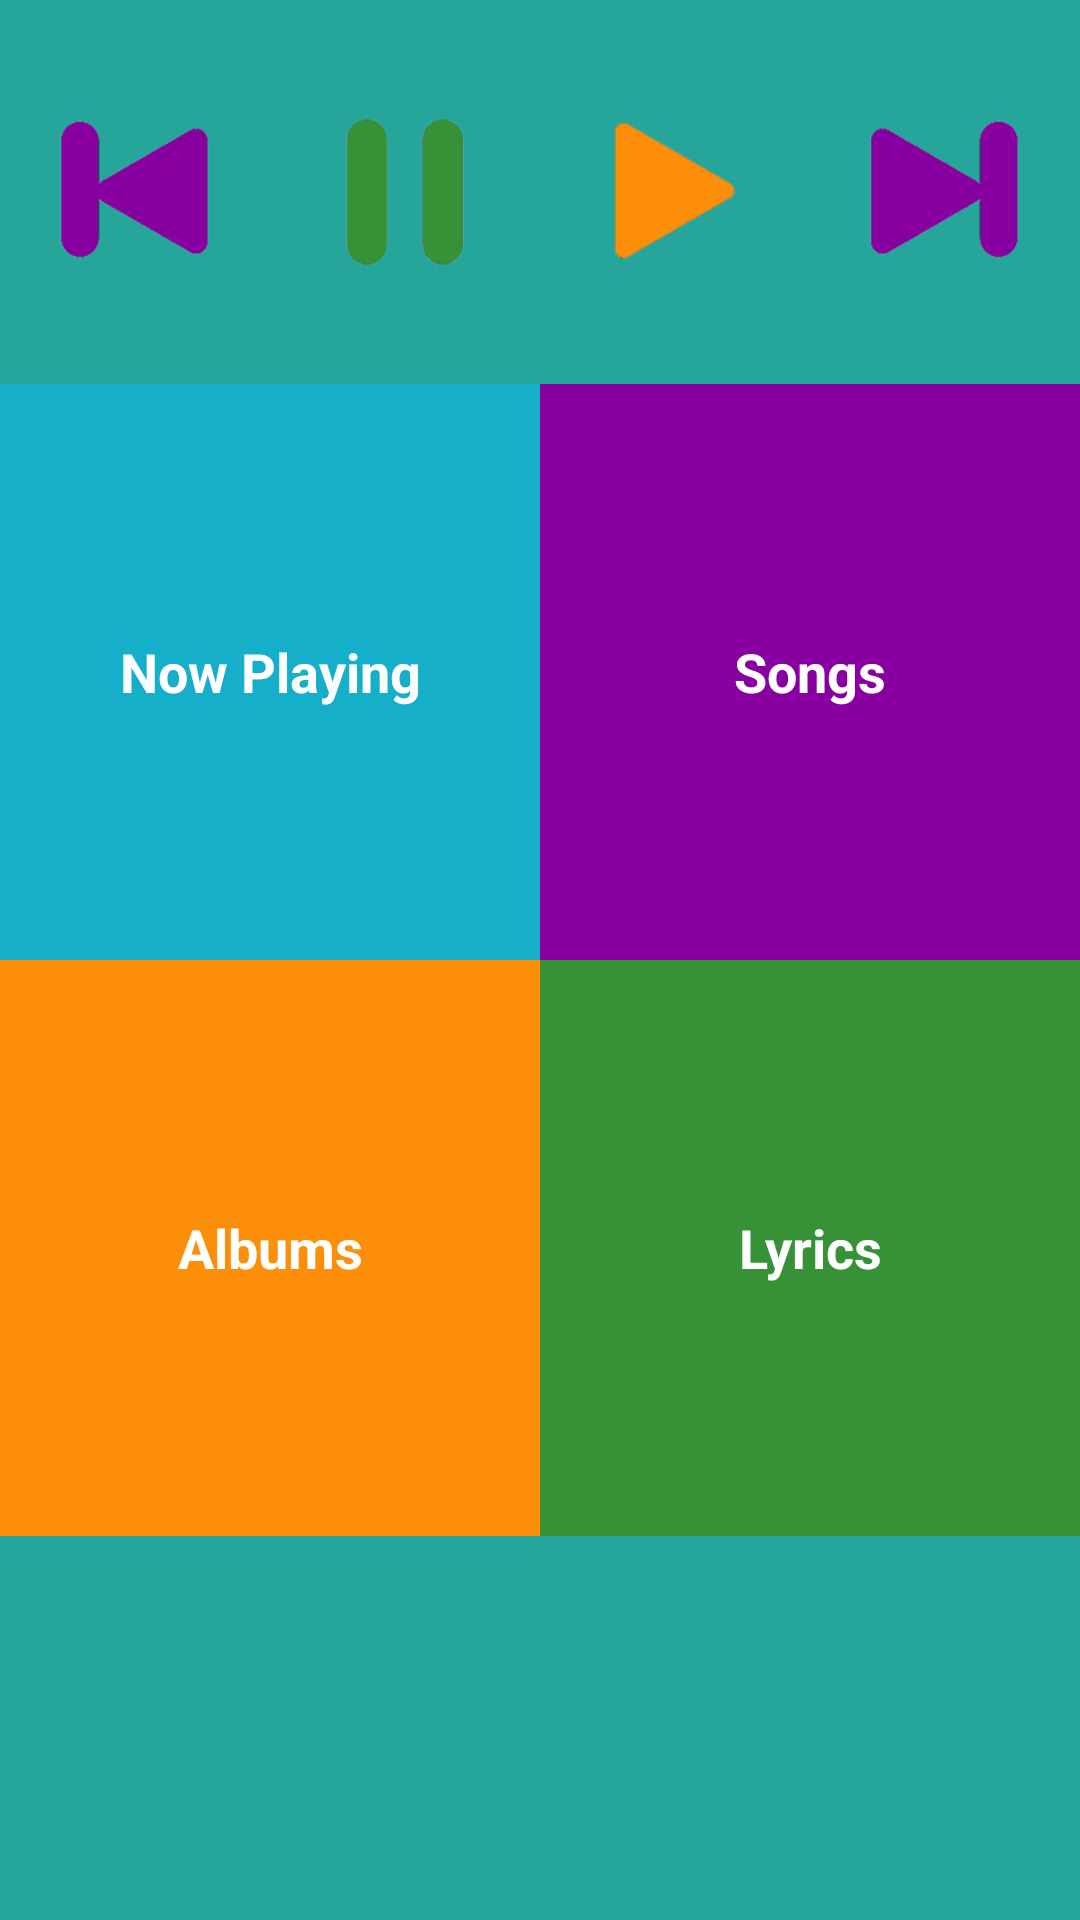

Locate icon controls on the screen. Image size 1080px×1920px, boxes as (x1, y1, x2, y2).
back: (61, 121, 208, 258)
next: (871, 121, 1018, 258)
pause: (346, 119, 464, 265)
